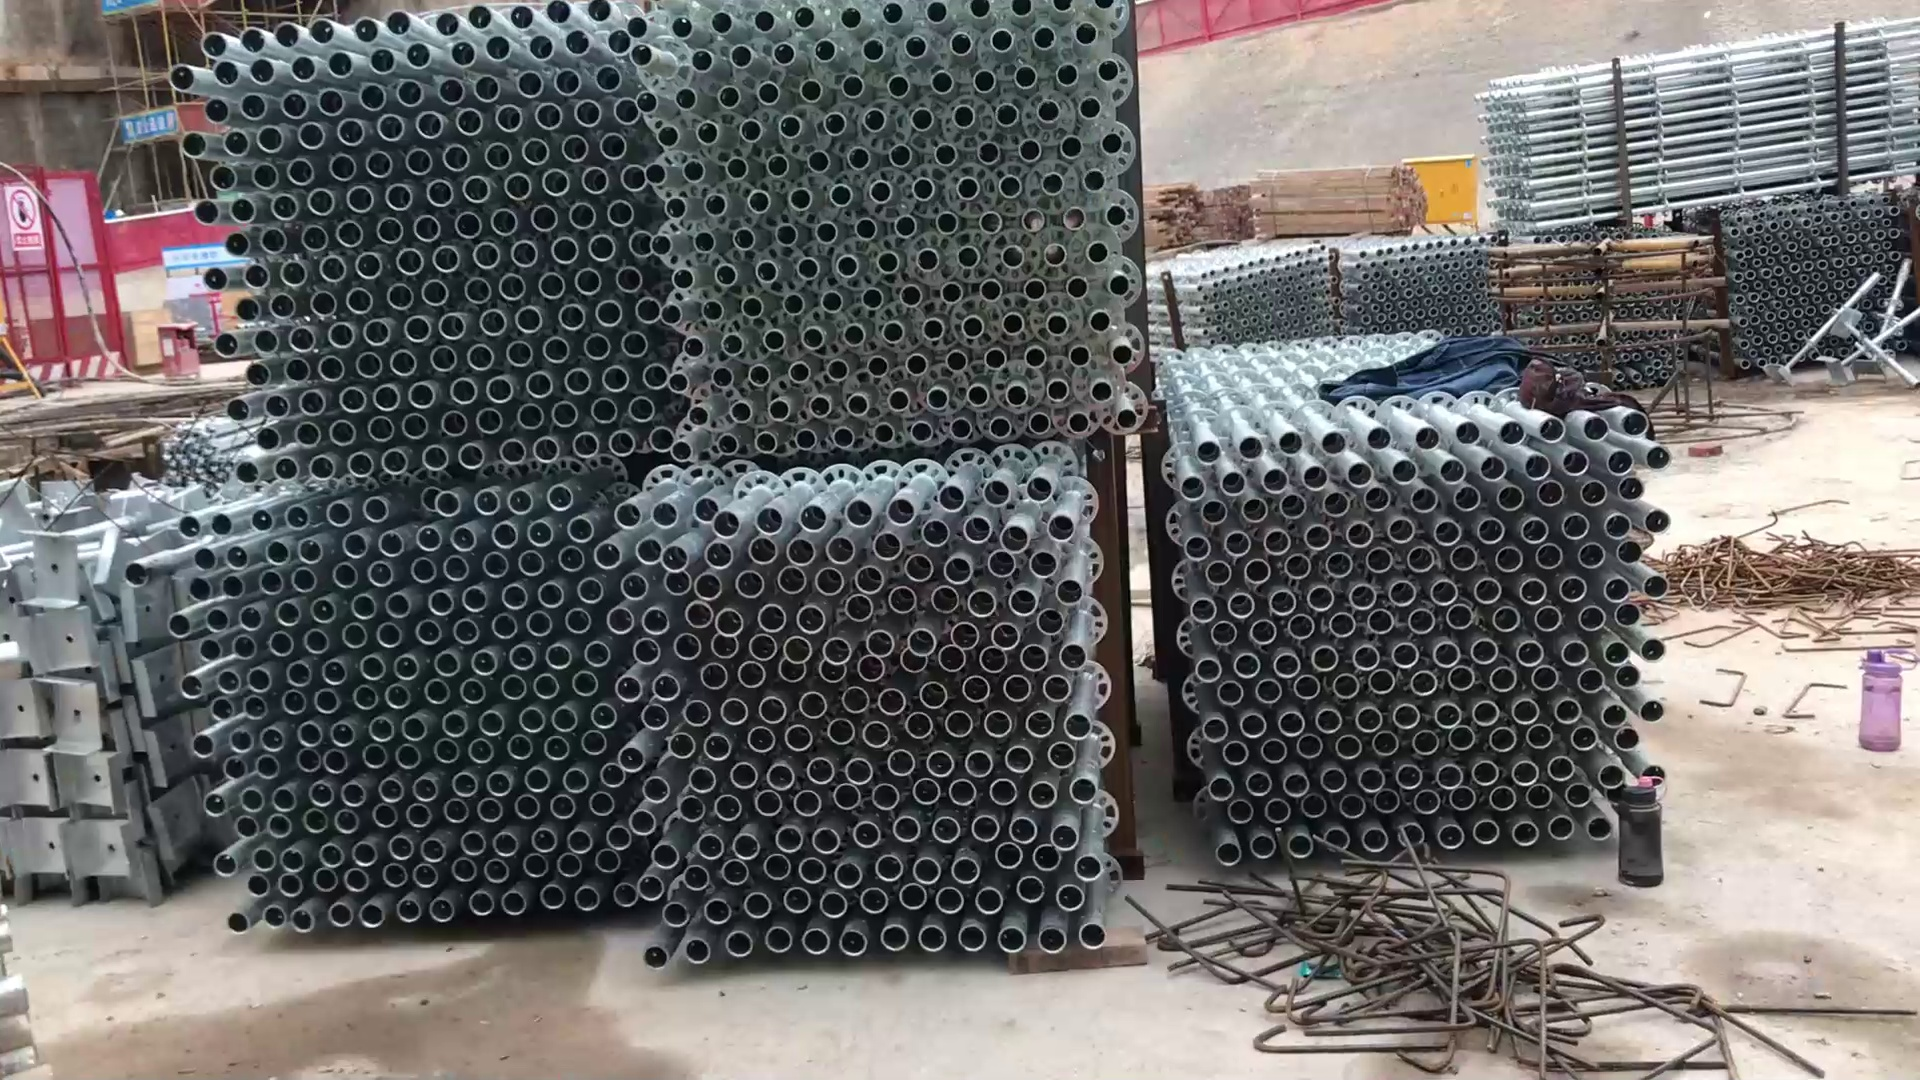ebox: (1402, 152, 1487, 236)
rebar: (1185, 860, 1808, 1080), (1660, 518, 1920, 665)
scaffold: (181, 9, 1166, 448), (1164, 342, 1677, 857), (618, 472, 1133, 978), (196, 498, 622, 938), (4, 471, 200, 922), (1495, 22, 1920, 222), (1499, 241, 1737, 392), (1166, 237, 1489, 339), (1733, 198, 1920, 364)
slogan: (1, 179, 55, 260), (112, 104, 193, 144)
wood: (1236, 156, 1436, 249), (1151, 174, 1254, 257)
